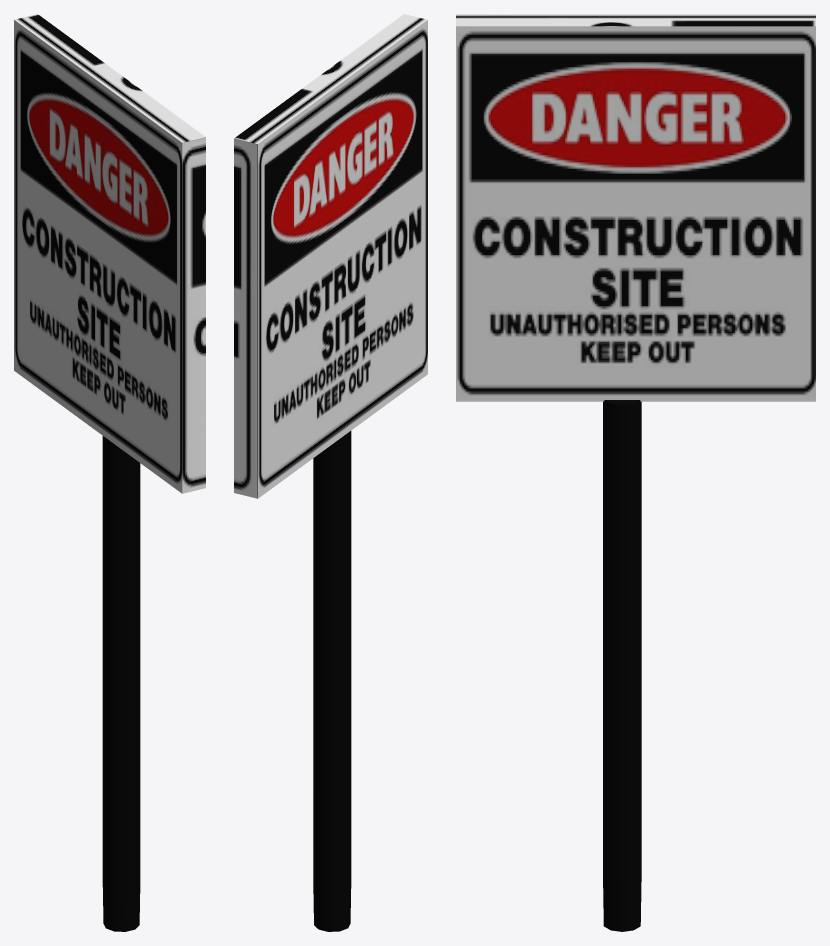
Rendered from traffic sign8.FBX.
3 renders of one model, left to right at view 1: azimuth 30°, elevation 25°; view 2: azimuth 150°, elevation 25°; view 3: azimuth 270°, elevation 25°, orthographic. The views are drawn at different scales.
Visible parts, largest first — view 1: Cylinder002; view 2: Cylinder002; view 3: Cylinder002.
Part boxes in pixels (x1=…): Cylinder002: x1=14, y1=14, x2=205, y2=931; Cylinder002: x1=234, y1=14, x2=427, y2=931; Cylinder002: x1=456, y1=14, x2=815, y2=931.
Size of the model in its own units: 1.42 by 34.19 by 12.37.
